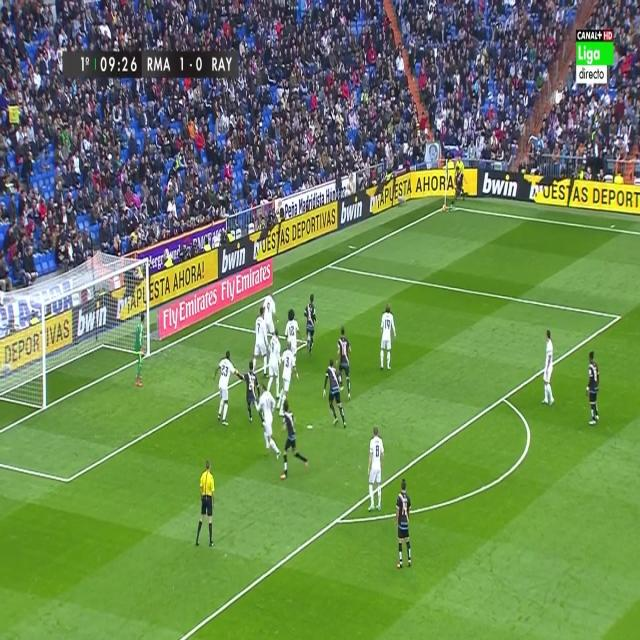Ball: (442, 203, 446, 212)
Goalkeeper: (133, 310, 147, 389)
Player: (280, 401, 310, 485), (252, 383, 283, 461), (212, 349, 237, 424), (276, 340, 299, 417), (366, 427, 386, 515), (395, 475, 413, 571), (322, 359, 346, 430), (236, 359, 262, 424), (335, 324, 355, 402), (585, 347, 603, 429), (378, 302, 398, 373), (264, 328, 281, 398), (252, 304, 268, 378), (542, 327, 556, 408), (304, 294, 319, 359), (286, 308, 301, 372), (262, 289, 276, 336), (448, 165, 462, 209)
Referee: (194, 461, 217, 553)
